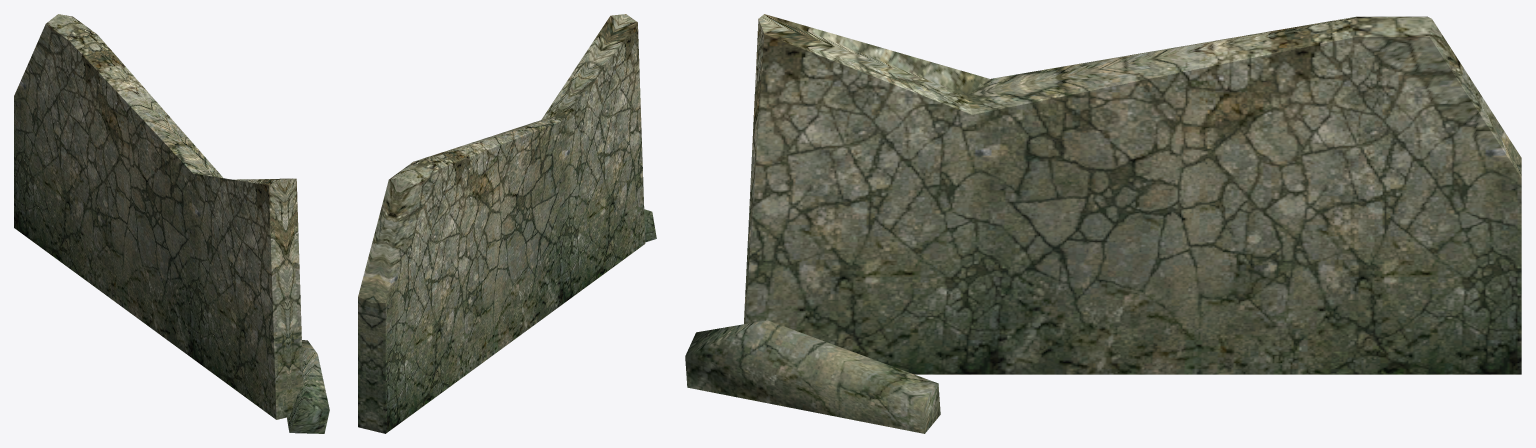
Rendered from thm_nboo_gungan_wall_ruined_lg_s02_l3.fbx.
3 views of the same model, side by side, from view 1: azimuth 30°, elevation 25°; view 2: azimuth 150°, elevation 25°; view 3: azimuth 270°, elevation 25° (orthographic). The views are drawn at different scales.
Parts seen in each view (by area): view 1: mesh_node; view 2: mesh_node; view 3: mesh_node.
Part boxes in pixels (x1,y1,x2,y2): mesh_node: (14,14,329,433); mesh_node: (358,14,656,433); mesh_node: (685,14,1521,433).
Bounding box in the file's own units: 1.66 × 4.18 × 8.77.
